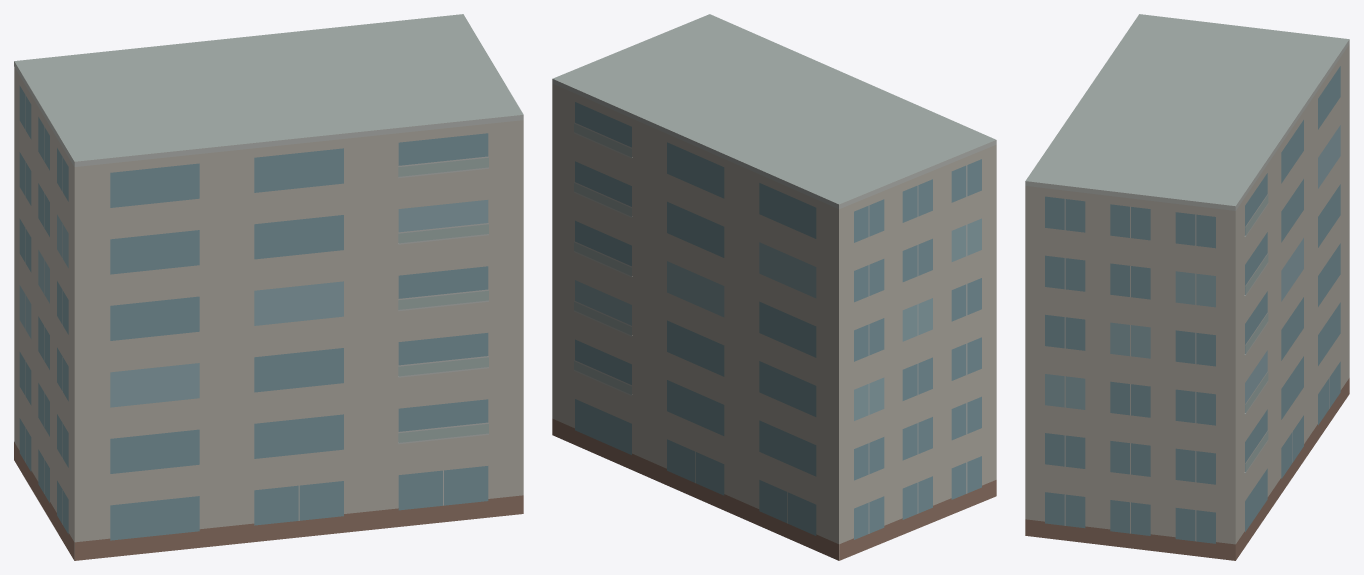
Rendered from survey-upis-32876153.glb.
The picture shows the model from 3 angles, left to right: view 1: azimuth 30°, elevation 25°; view 2: azimuth 150°, elevation 25°; view 3: azimuth 270°, elevation 25°; orthographic projection. The views are drawn at different scales.
Visible parts, largest first — view 1: survey-upis-32876153.tmp; view 2: survey-upis-32876153.tmp; view 3: survey-upis-32876153.tmp.
Part boxes in pixels (x1,y1,x2,y2): survey-upis-32876153.tmp: [14, 14, 523, 560]; survey-upis-32876153.tmp: [552, 14, 996, 560]; survey-upis-32876153.tmp: [1025, 14, 1349, 560].
Bounding box in the file's own units: 21.27 × 18.3 × 15.17.
